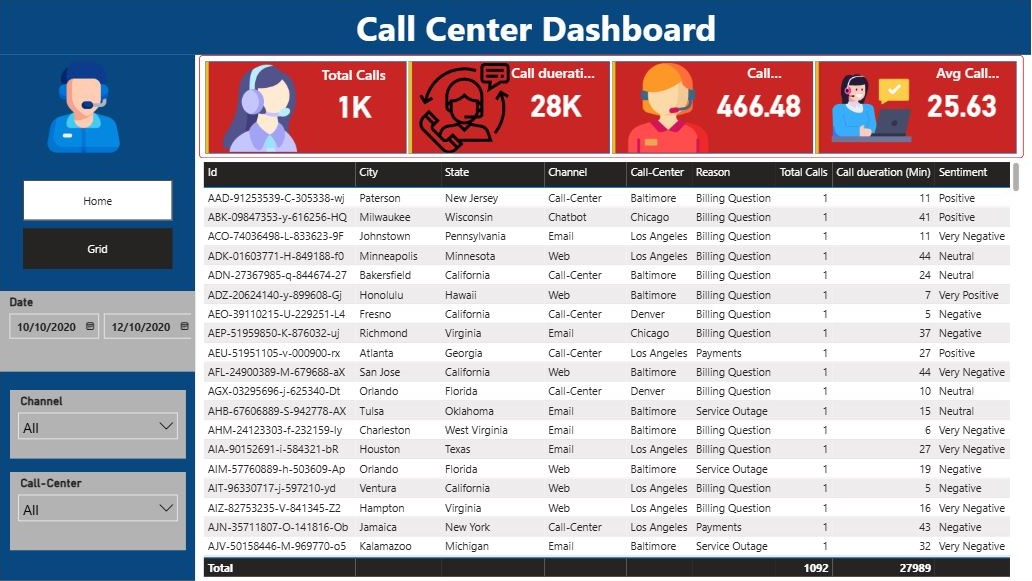

The page's visual inventory and layout, read from the dashboard file:
{"tool":"powerbi","page":{"name":"Grid","canvas":[1280,720],"ordinal":1},"visuals":[{"type":"shape","box":[0,0,1280,68.3],"z":0},{"type":"shape","box":[0,68.3,243.2,651.7],"z":1000},{"type":"cardVisual","fields":{"Data":["Call Center_Call Center.Total Calls","Call Center_Call Center.Call dueration (Min)","Call Center_Call Center.Total Call duration(Hrs)","Call Center_Call Center.Avg Call Duration (Min)"]},"box":[248.3,68.3,1021.7,128.3],"z":2000},{"type":"textbox","box":[301.7,0,730,85],"z":3000},{"type":"image","box":[43.3,68.3,123.3,128.3],"z":4000},{"type":"pageNavigator","box":[30,223.3,185,111.7],"z":5000},{"type":"slicer","fields":{"Values":["Date Table.Date"]},"box":[0,360,243.3,100],"z":6000},{"type":"slicer","fields":{"Values":["Call Center_Call Center.Channel"]},"box":[13.3,483.3,218.3,85],"z":7000},{"type":"slicer","fields":{"Values":["Call Center_Call Center.Call-Center"]},"box":[13.3,585,218.3,96.7],"z":8000},{"type":"tableEx","fields":{"Values":["Call Center_Call Center.Id","Call Center_Call Center.City","Call Center_Call Center.State","Call Center_Call Center.Channel","Call Center_Call Center.Call-Center","Call Center_Call Center.Reason","Call Center_Call Center.Total Calls","Call Center_Call Center.Call dueration (Min)","Call Center_Call Center.Sentiment"]},"box":[248,196,1022,524],"z":9000}]}

Visuals, with their boxes in screenshot pixels (x1, y1, x2, y2), scaled from the page's 1280x720 canvas onto the 1032x581 screenshot:
shape: [x1=0, y1=0, x2=1031, y2=55]
shape: [x1=0, y1=55, x2=196, y2=580]
cardVisual - Call Center_Call Center.Total Calls x Call Center_Call Center.Call dueration (Min): [x1=200, y1=55, x2=1024, y2=159]
textbox: [x1=243, y1=0, x2=832, y2=69]
image: [x1=35, y1=55, x2=134, y2=159]
pageNavigator: [x1=24, y1=180, x2=173, y2=270]
slicer - Date Table.Date: [x1=0, y1=290, x2=196, y2=371]
slicer - Call Center_Call Center.Channel: [x1=11, y1=390, x2=187, y2=459]
slicer - Call Center_Call Center.Call-Center: [x1=11, y1=472, x2=187, y2=550]
tableEx - Call Center_Call Center.Id x Call Center_Call Center.City: [x1=200, y1=158, x2=1024, y2=580]
